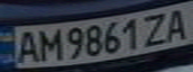1: (118, 15, 145, 51)
6: (103, 18, 127, 54)
8: (81, 21, 106, 57)
9: (63, 25, 84, 60)
A: (160, 4, 193, 42), (9, 28, 42, 64)
M: (33, 26, 63, 62)
Z: (139, 9, 172, 47)
